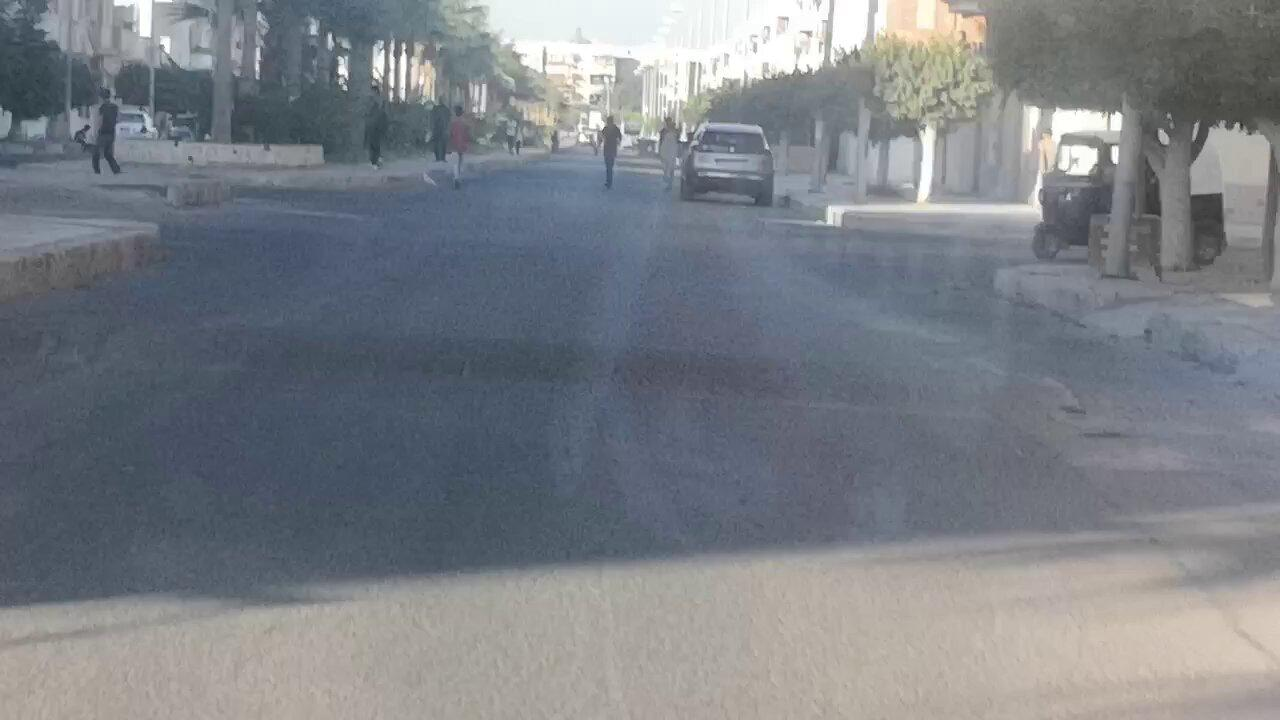Bump: (0, 303, 1279, 444)
